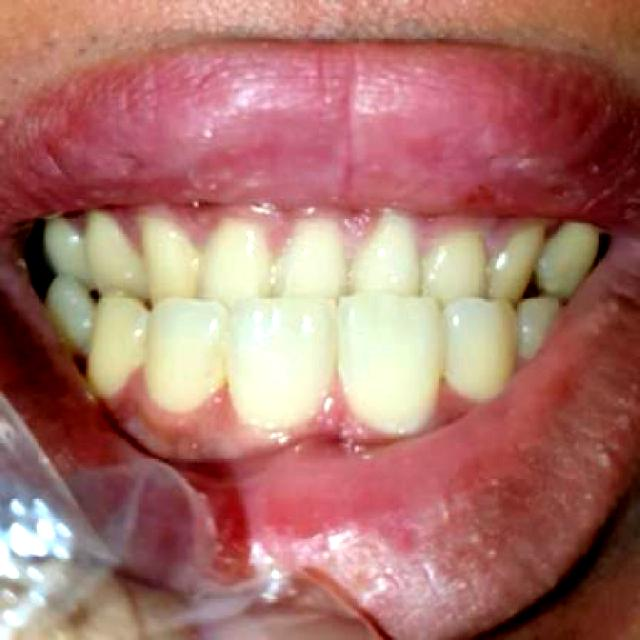Plaque: (402, 203, 526, 268), (331, 208, 399, 261), (172, 200, 241, 249), (253, 210, 304, 265)
